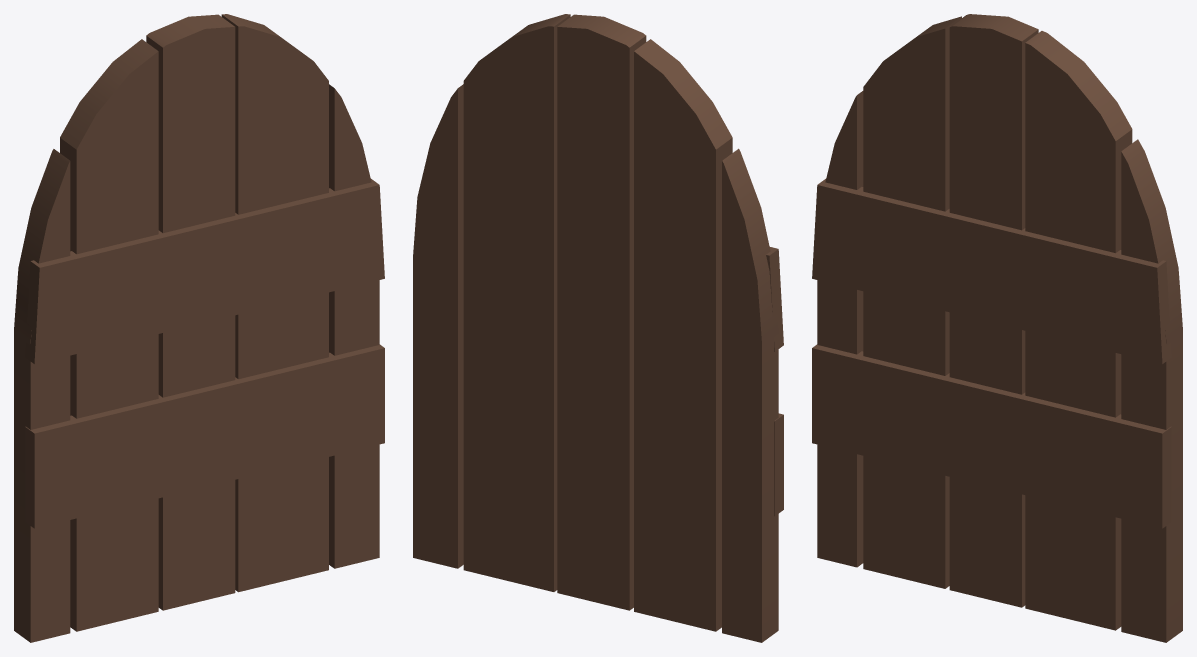
The model's file is Door.fbx.
3 renders of one model, left to right at view 1: azimuth 30°, elevation 25°; view 2: azimuth 150°, elevation 25°; view 3: azimuth 330°, elevation 25°, orthographic.
Visible parts, largest first — view 1: Door; view 2: Door; view 3: Door.
Boxes of the visible parts, <box> form: Door: <box>14,14,384,642</box>; Door: <box>413,14,783,642</box>; Door: <box>812,14,1182,642</box>.
Size of the model in its own units: 73.54 by 115 by 7.74.
